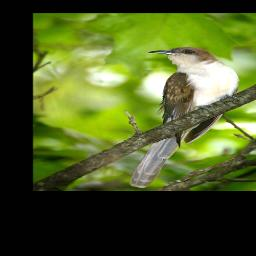Cuckoo: (129, 46, 242, 188)
